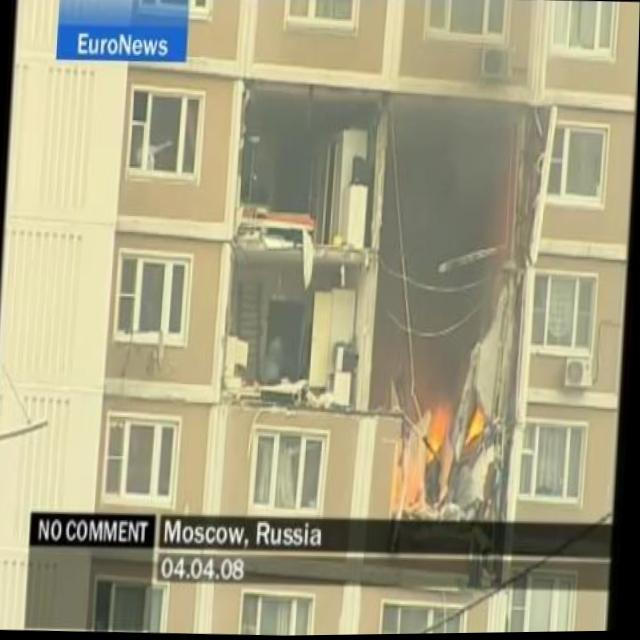fire: (423, 393, 457, 467), (469, 402, 491, 451)
